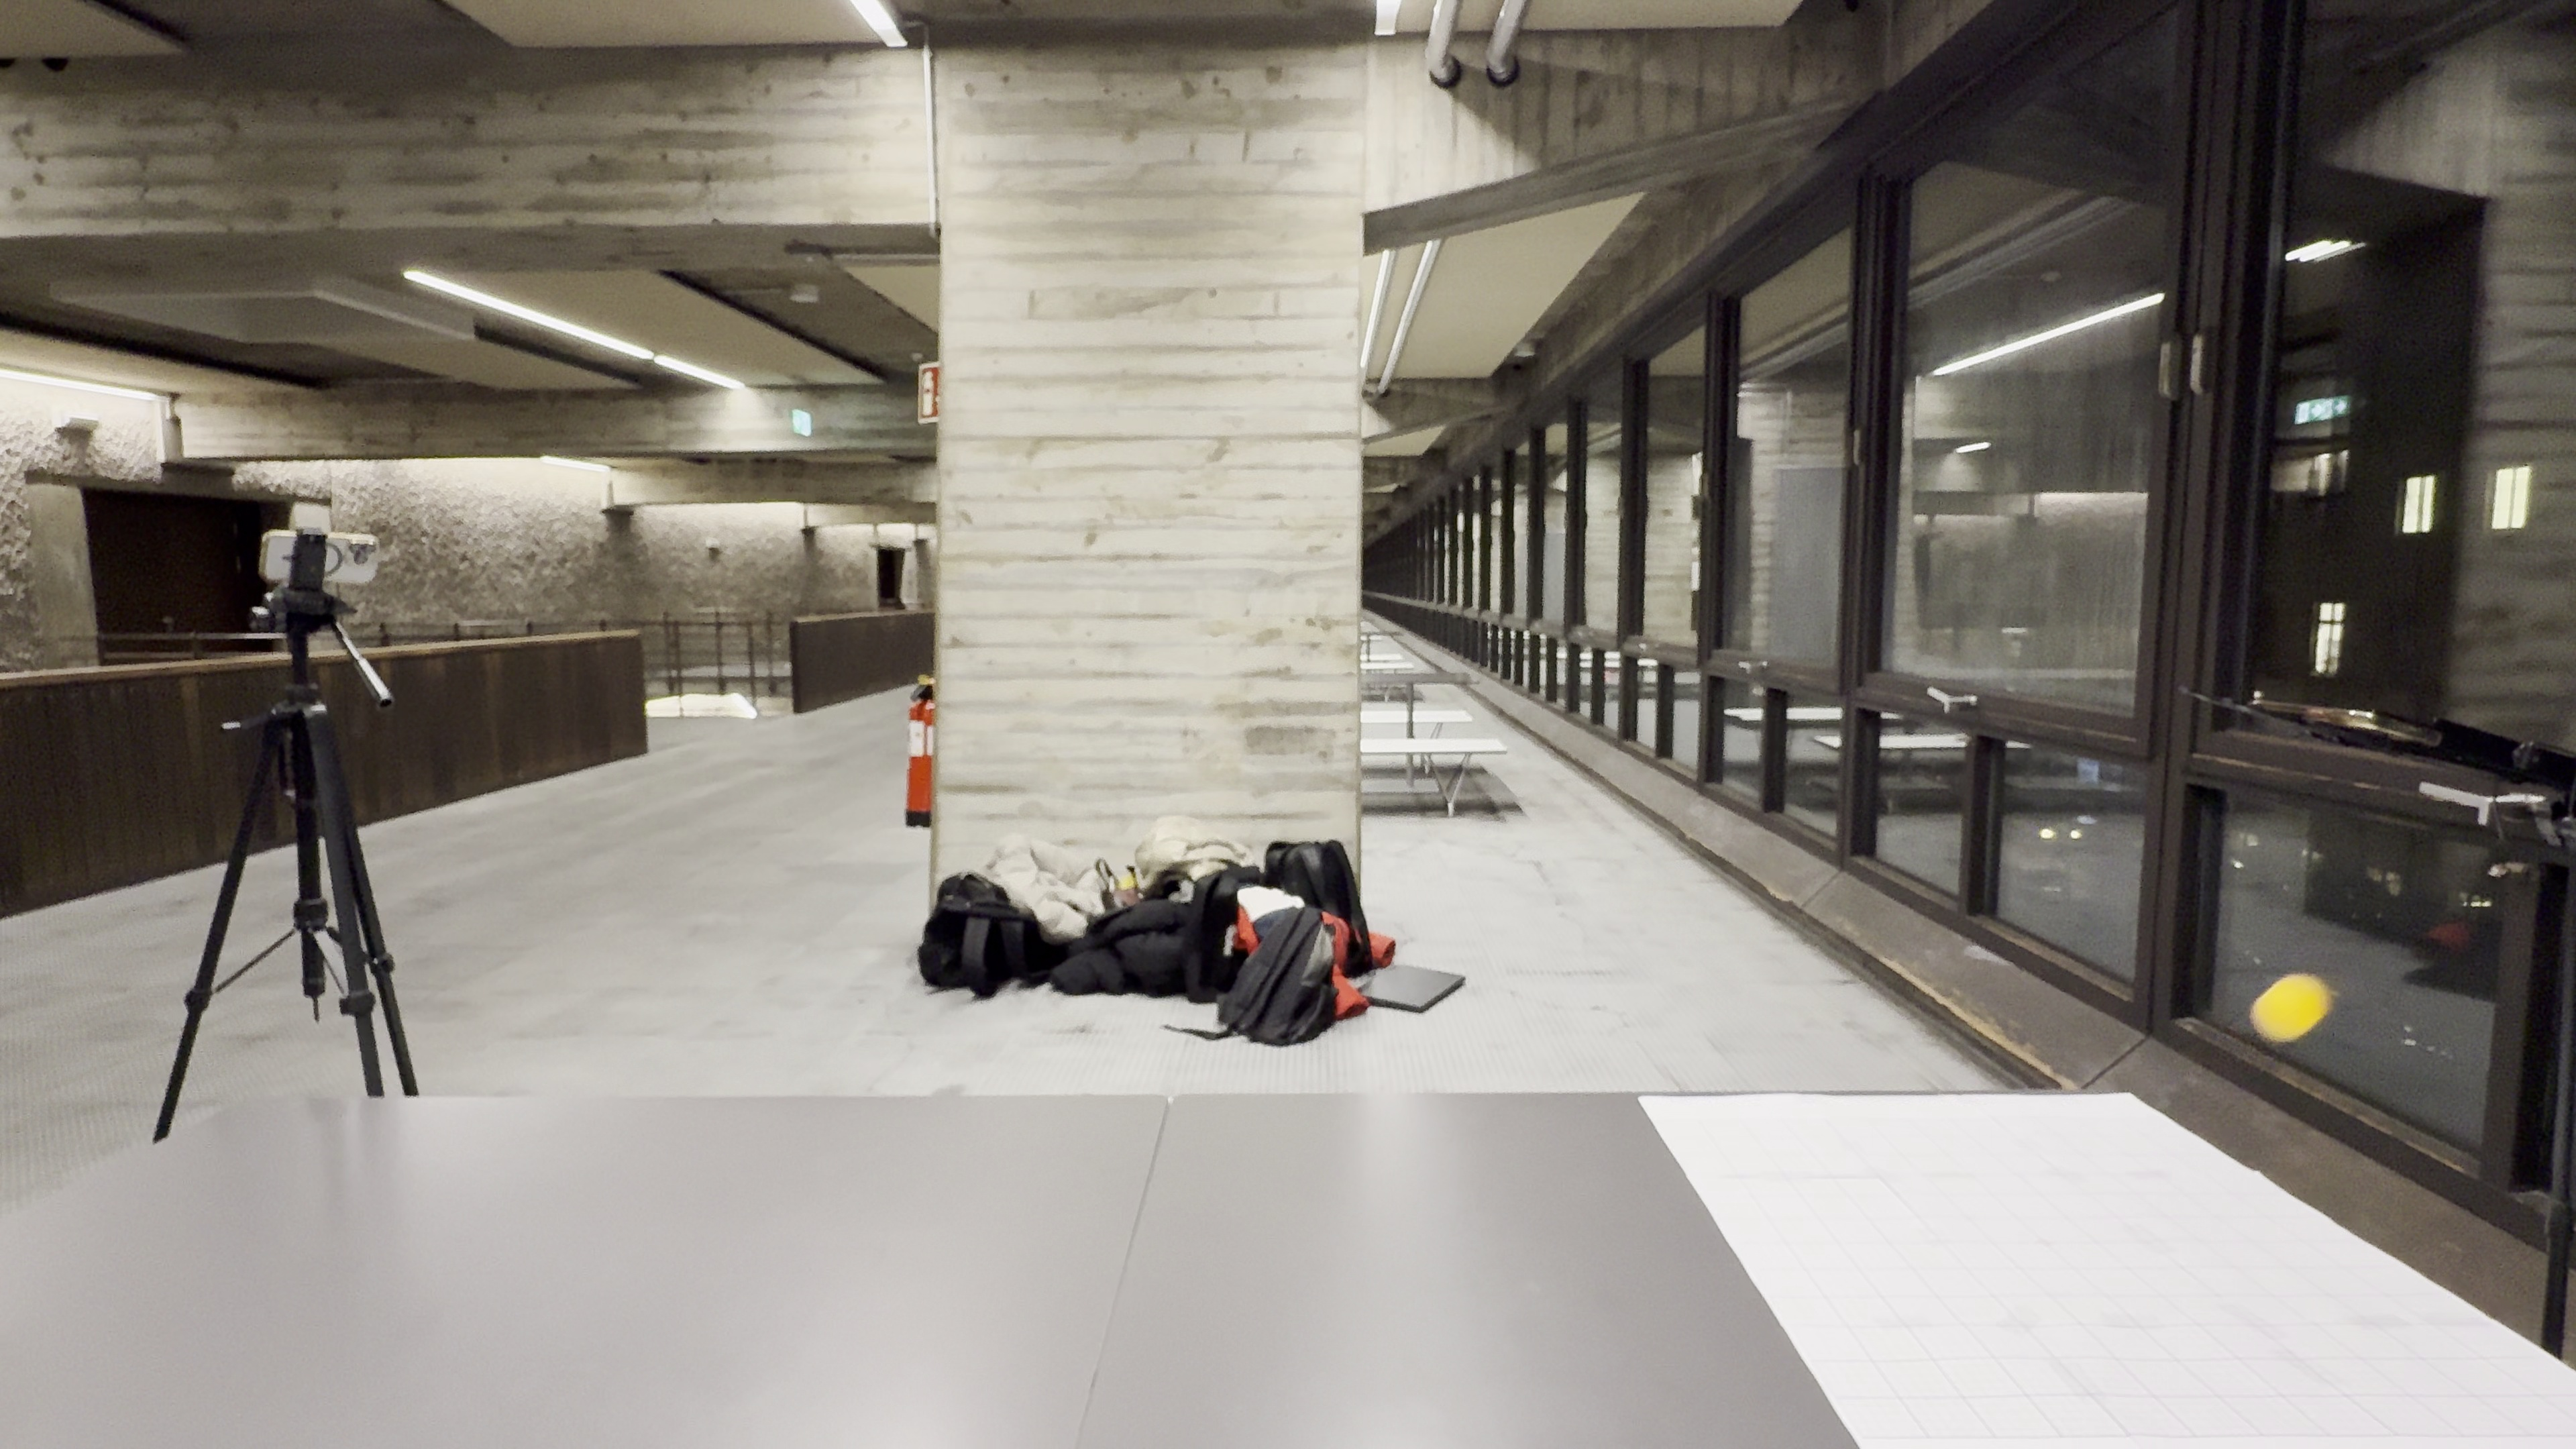ping-pong ball: (2243, 966, 2339, 1047)
